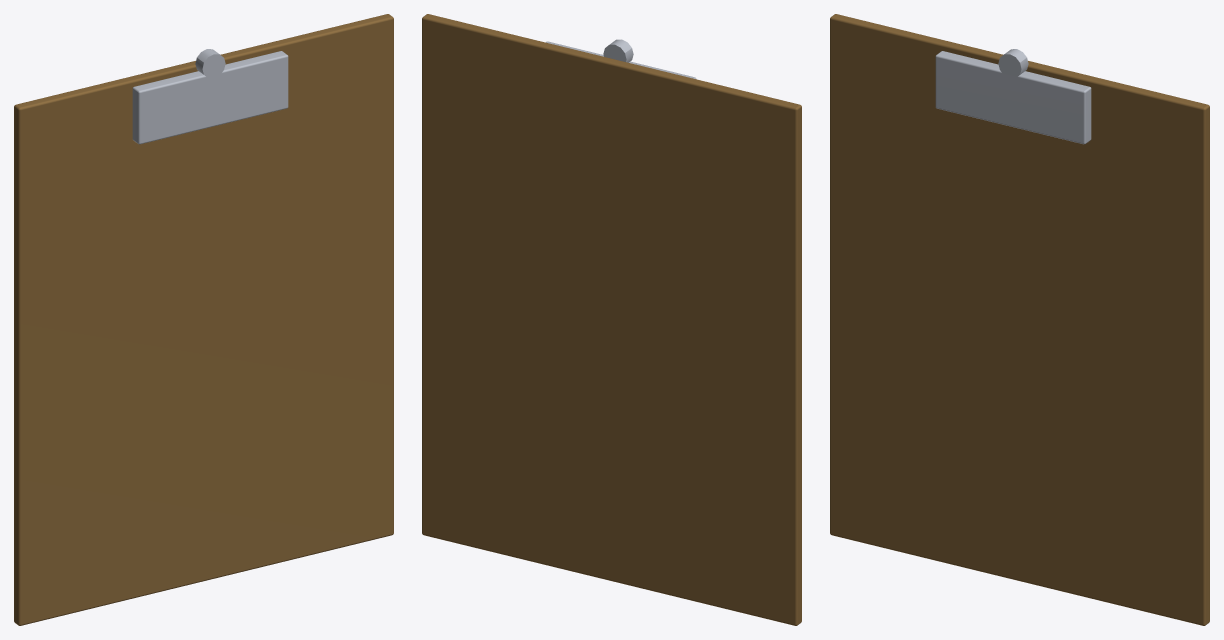
The model's file is ClipboardBoard.fbx.
3 views of the same model, side by side, from view 1: azimuth 30°, elevation 25°; view 2: azimuth 150°, elevation 25°; view 3: azimuth 330°, elevation 25° (orthographic).
Visible parts, largest first — view 1: ClipboardBoard; view 2: ClipboardBoard; view 3: ClipboardBoard.
Part boxes in pixels (left/top/right/bottom): ClipboardBoard: left=14, top=14, right=393, bottom=625; ClipboardBoard: left=422, top=14, right=801, bottom=625; ClipboardBoard: left=830, top=14, right=1209, bottom=625.
Bounding box in the file's own units: 0.11 × 0.1489 × 0.0066.
